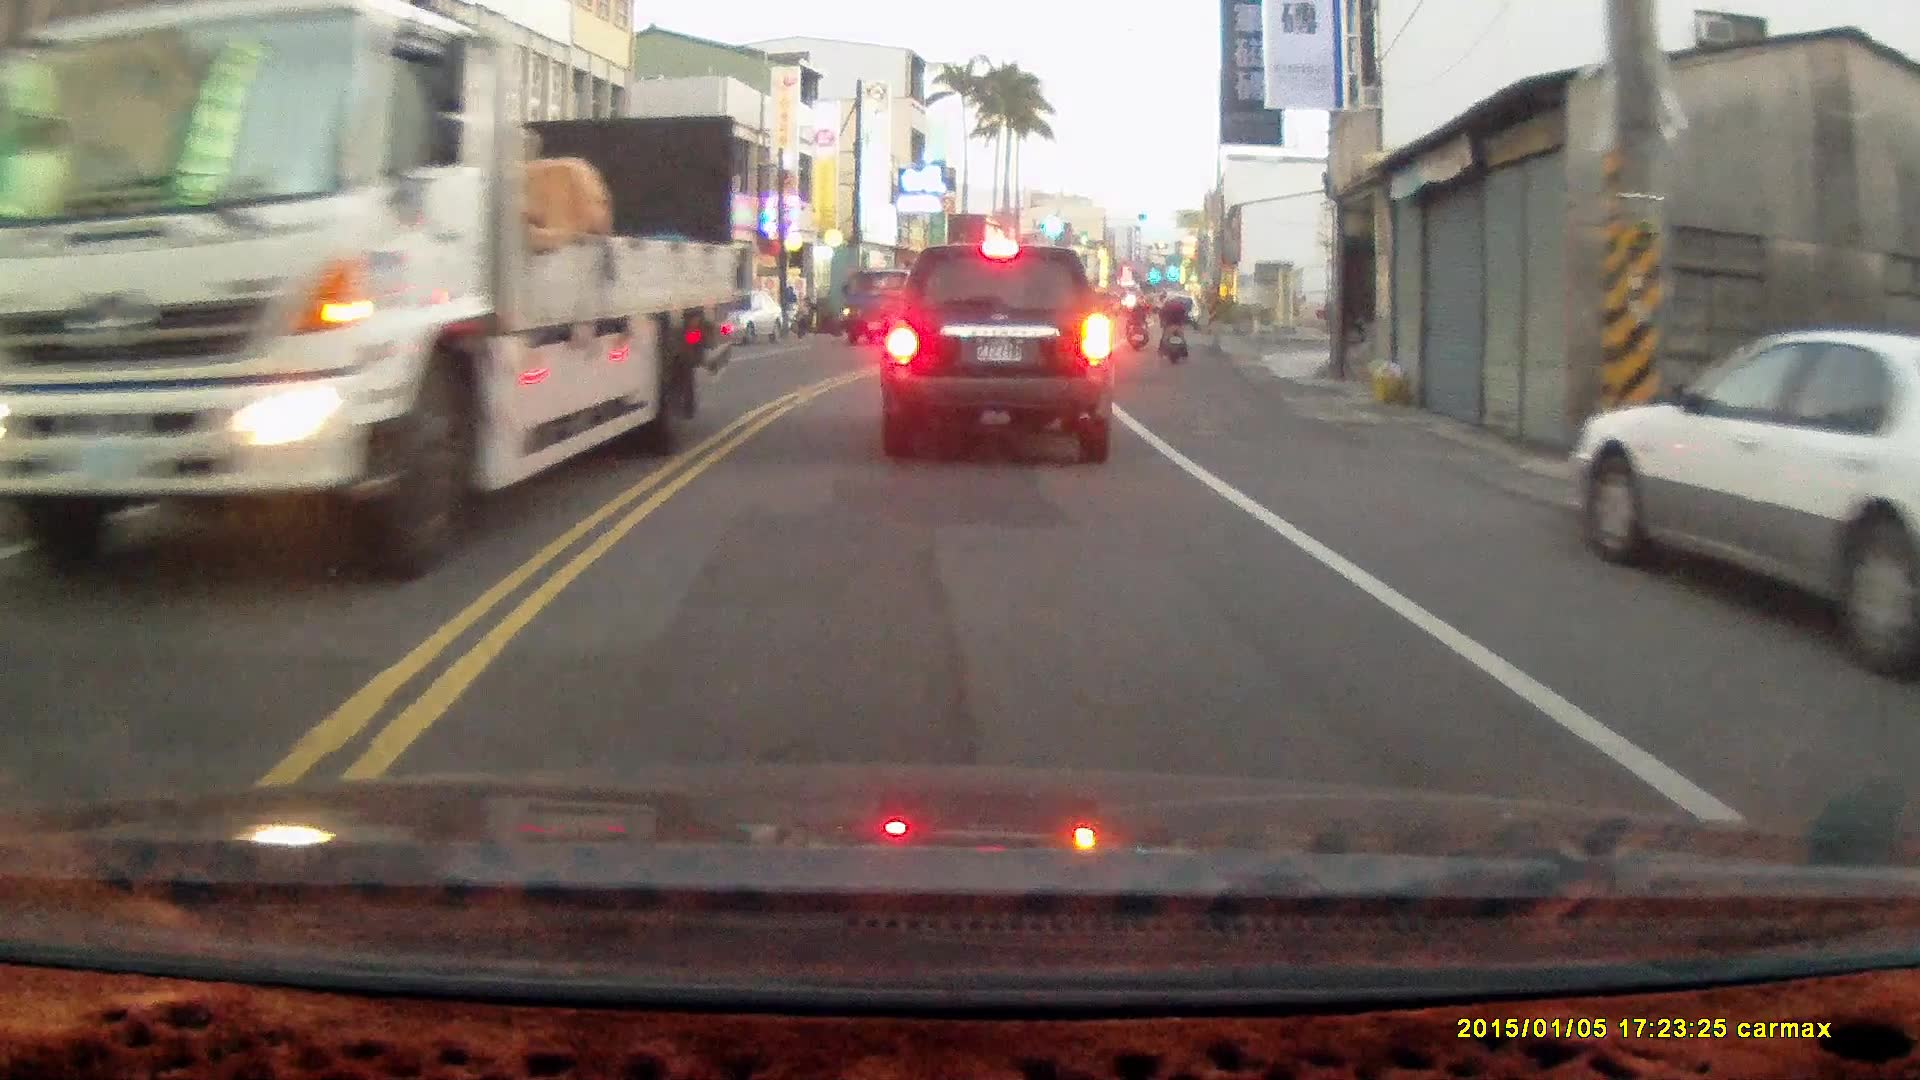rider: (1155, 286, 1186, 365), (1123, 295, 1148, 352)
vehicle: (0, 16, 743, 583), (1565, 327, 1920, 667), (878, 239, 1119, 463), (839, 266, 942, 347), (710, 289, 788, 346)
